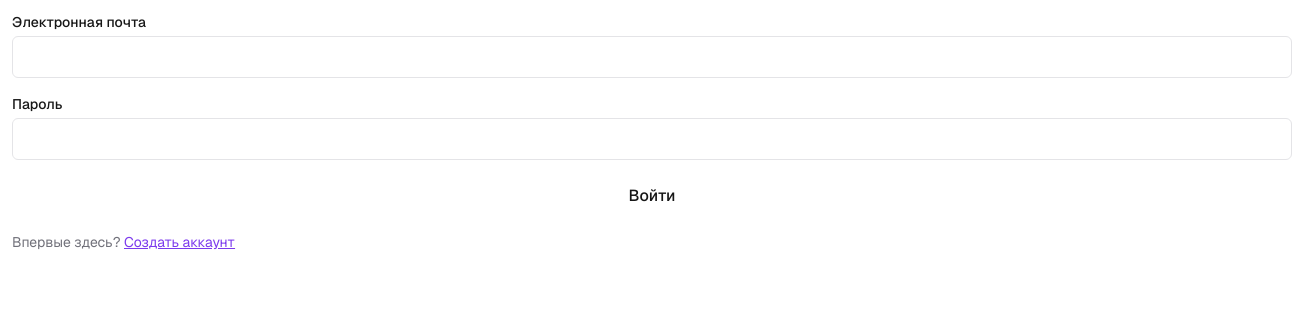
Test: SignInForm › shows the rate-limited alert and keeps the email
Step 1. Type "reader@example.com" into the field labelled "Электронная почта" → (652, 57), box [12, 36, 1292, 78]
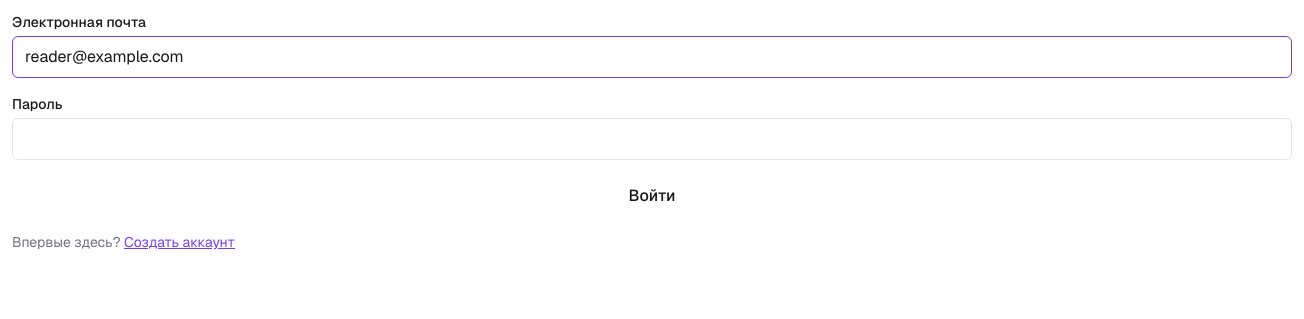
Step 2. Type "secret-password-1" into the password field labelled "Пароль" → (652, 139), box [12, 118, 1292, 160]
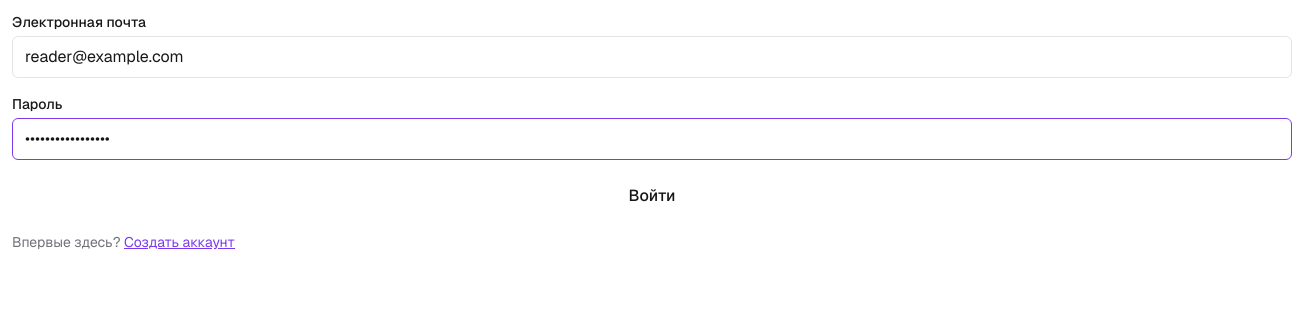
Step 3. Click the button "Войти" → (652, 196), box [12, 176, 1292, 216]
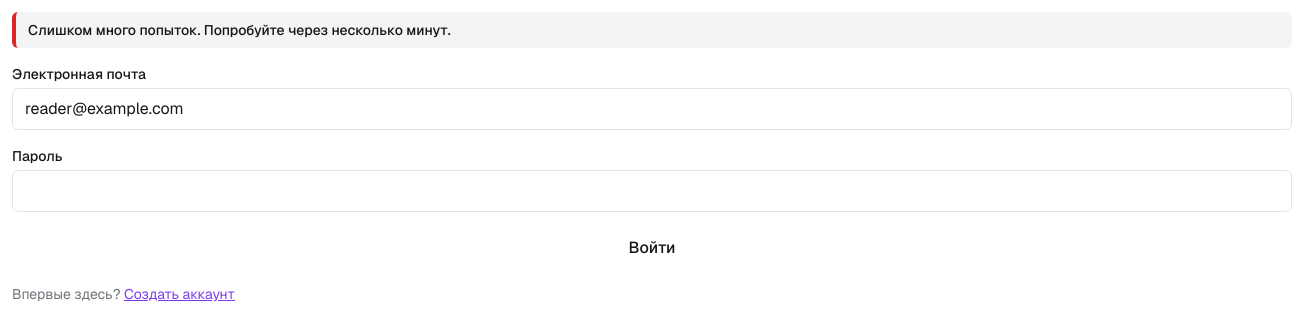
expect the message reads "Слишком много попыток. Попробуйте через несколько минут.": met, box [28, 21, 451, 39]
expect the password field labelled "Пароль" is empty: met, box [12, 170, 1292, 212]
